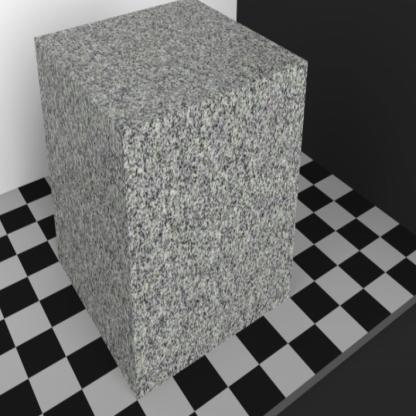Igneous_Diorite: (118, 121, 270, 320)
